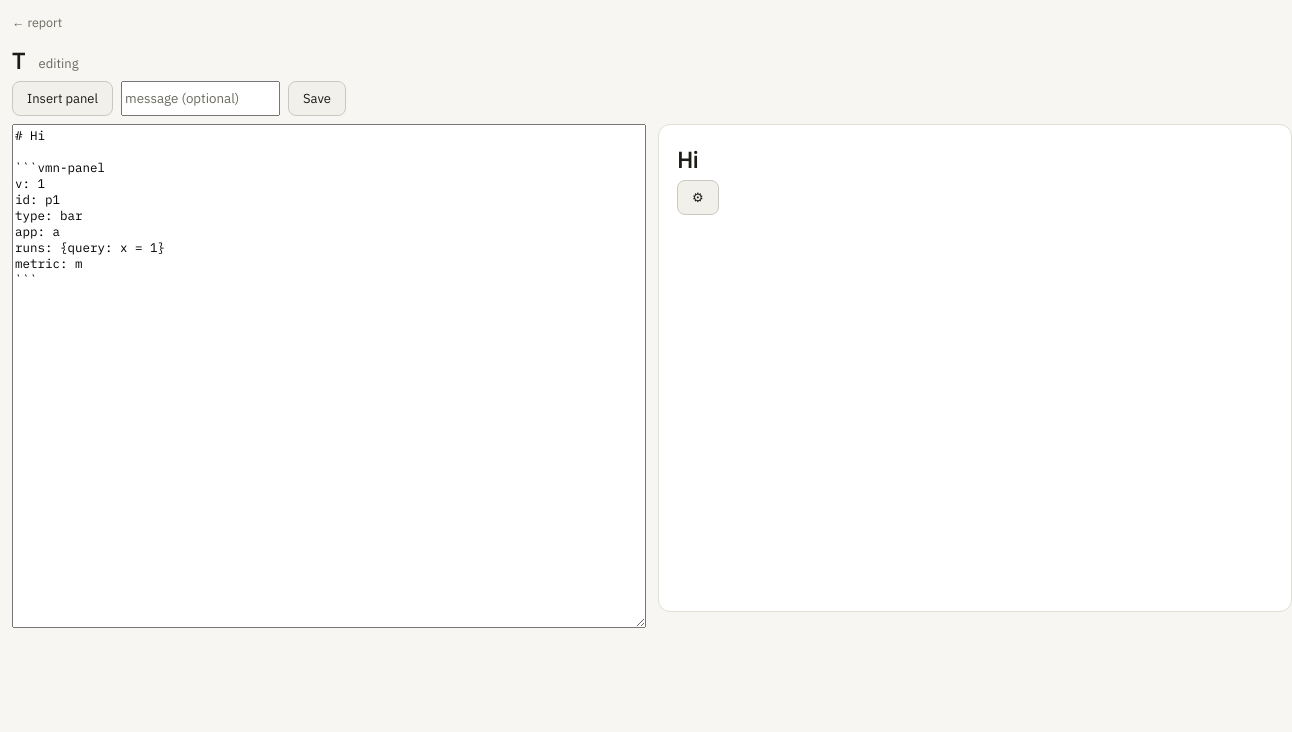
Test case: ReportEdit › shows source and live preview
Replace the text in the text box named "Report source" with "# Changed": (329, 376) [12,124,646,628]
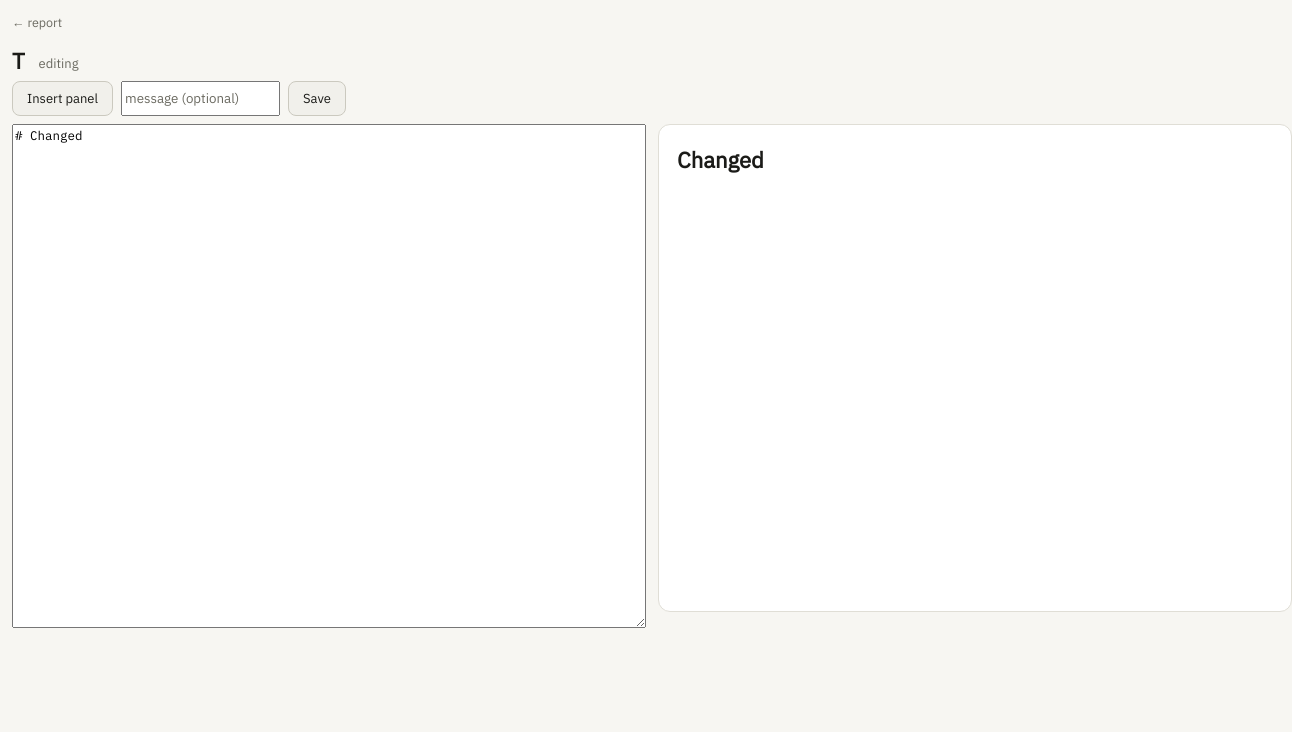
Result: the heading "Changed" is shown at [677,145,764,174]
